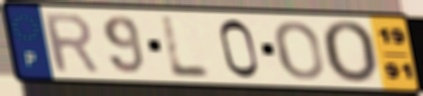0: (217, 18, 260, 81)
9: (100, 14, 146, 76)
L: (159, 14, 214, 80)
O: (318, 18, 380, 86), (272, 19, 326, 82)
R: (39, 11, 103, 75)
